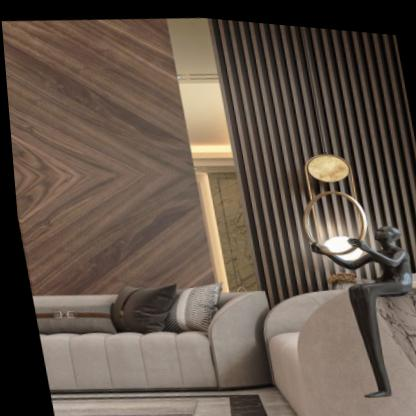Sofa: (28, 281, 266, 400)
Wall Panel: (0, 0, 416, 325)
